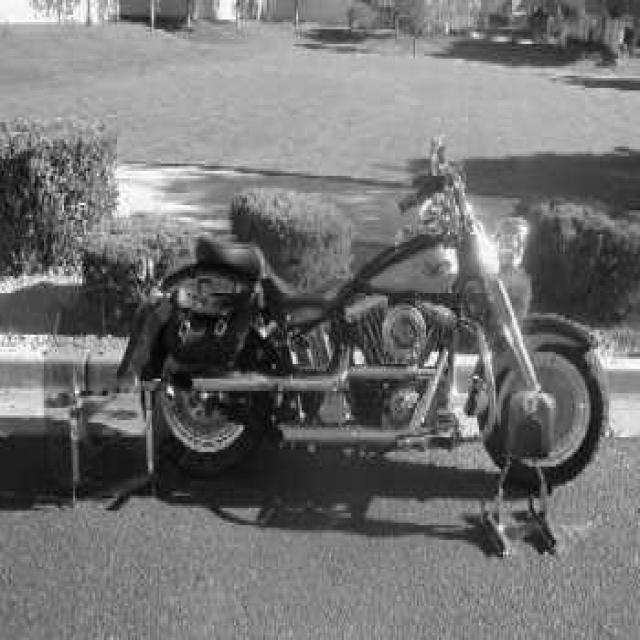Motorcycle: (119, 146, 605, 494)
